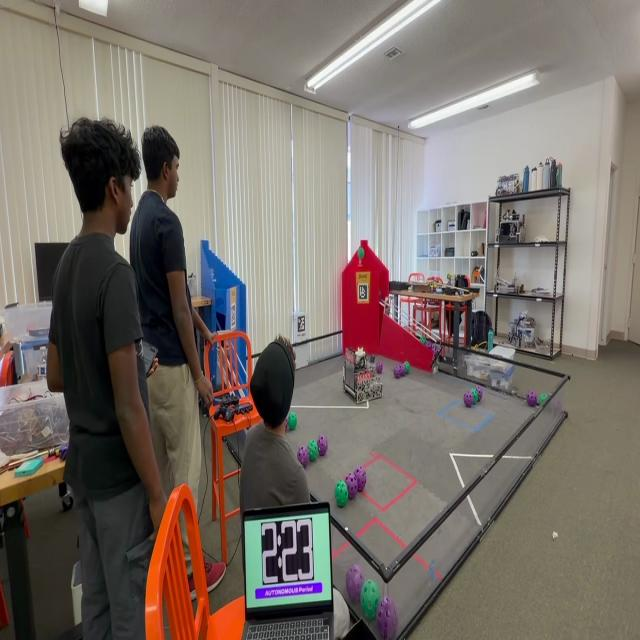artifact_green: (361, 580, 380, 619), (335, 480, 349, 508), (307, 440, 319, 461), (526, 391, 538, 407), (288, 413, 298, 431), (470, 389, 479, 404), (475, 385, 483, 401), (539, 394, 549, 405), (394, 365, 401, 378), (404, 361, 410, 374), (358, 247, 364, 260), (420, 336, 427, 344), (286, 422, 289, 431)
artifact_purple: (377, 597, 398, 639), (346, 565, 364, 600), (354, 465, 367, 491), (345, 473, 357, 499), (298, 446, 309, 467), (317, 435, 327, 455), (527, 391, 537, 407), (463, 392, 473, 407), (394, 365, 402, 379), (476, 385, 482, 400), (398, 365, 406, 376), (427, 340, 435, 351), (376, 360, 382, 374), (286, 423, 289, 431)
